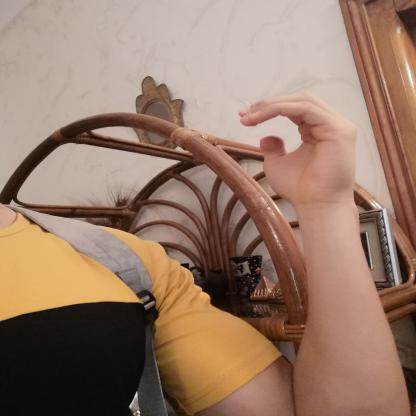JEEM: (222, 86, 373, 215)
